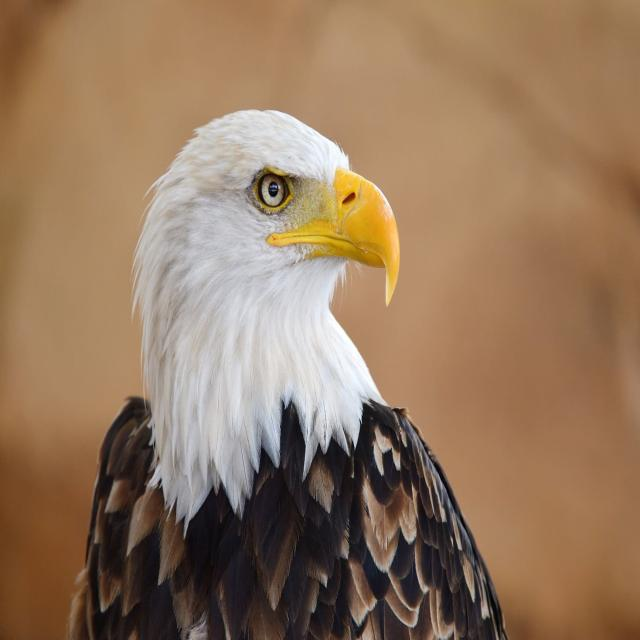Eagle: (93, 99, 461, 640)
